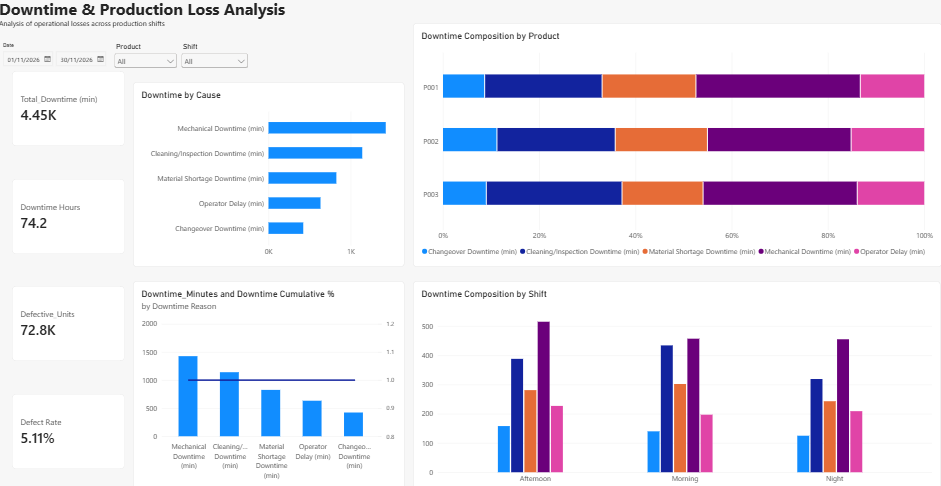

The page's visual inventory and layout, read from the dashboard file:
{"tool":"powerbi","page":{"name":"Downtime","canvas":[1920,1080],"ordinal":1},"visuals":[{"type":"textbox","box":[10,0,788,82],"z":0},{"type":"slicer","fields":{"Values":["Calendar.Date"]},"box":[10,90,225,57.5],"z":1000},{"type":"slicer","fields":{"Values":["Production.Product"]},"box":[235,90,135,57.5],"z":2000},{"type":"slicer","fields":{"Values":["Production.Shift"]},"box":[370,90,142.5,57.5],"z":3000},{"type":"cardVisual","fields":{"Data":["Production.Total_Downtime (min)"]},"box":[35,147.5,225,150],"z":4000},{"type":"cardVisual","fields":{"Data":["Production.Downtime Hours"]},"box":[35,363,225,150],"z":5000},{"type":"cardVisual","fields":{"Data":["Production.Defective_Units"]},"box":[35,578,225,150],"z":6000},{"type":"cardVisual","fields":{"Data":["Production.Defect Rate"]},"box":[35,793,225,150],"z":7000},{"type":"clusteredBarChart","title":"Downtime by Cause","fields":{"Category":["Downtime.Downtime Reason"],"Y":["Sum(Downtime.Downtime Minutes)"]},"box":[277.5,170,542.5,370],"z":8000},{"type":"clusteredColumnChart","title":"Downtime Composition by Shift","fields":{"Category":["Production.Shift"],"Series":["Downtime.Downtime Reason"],"Y":["Sum(Downtime.Downtime Minutes)"]},"box":[837.5,567.5,1055,457.5],"z":9000},{"type":"hundredPercentStackedBarChart","title":"Downtime Composition by Product","fields":{"Category":["Production.Product"],"Series":["Downtime.Downtime Reason"],"Y":["Sum(Downtime.Downtime Minutes)"]},"box":[837.5,52.5,1057.5,487.5],"z":10000},{"type":"lineStackedColumnComboChart","fields":{"Category":["Downtime.Downtime Reason"],"Y":["Downtime.Downtime_Minutes"],"Y2":["Downtime.Downtime Cumulative %"]},"box":[277.5,567.5,542.5,447.5],"z":11000}]}

Visuals, with their boxes on the page's 1920x1080 design canvas (x1, y1, x2, y2). These are canvas units, not pixel positions in the 941x486 screenshot, which may show the page scaled, cropped or inside an application window:
textbox: <region>10, 0, 798, 82</region>
slicer - Calendar.Date: <region>10, 90, 235, 148</region>
slicer - Production.Product: <region>235, 90, 370, 148</region>
slicer - Production.Shift: <region>370, 90, 512, 148</region>
cardVisual - Production.Total_Downtime (min): <region>35, 148, 260, 298</region>
cardVisual - Production.Downtime Hours: <region>35, 363, 260, 513</region>
cardVisual - Production.Defective_Units: <region>35, 578, 260, 728</region>
cardVisual - Production.Defect Rate: <region>35, 793, 260, 943</region>
"Downtime by Cause" clusteredBarChart: <region>278, 170, 820, 540</region>
"Downtime Composition by Shift" clusteredColumnChart: <region>838, 568, 1892, 1025</region>
"Downtime Composition by Product" hundredPercentStackedBarChart: <region>838, 52, 1895, 540</region>
lineStackedColumnComboChart - Downtime.Downtime Reason x Downtime.Downtime_Minutes: <region>278, 568, 820, 1015</region>
